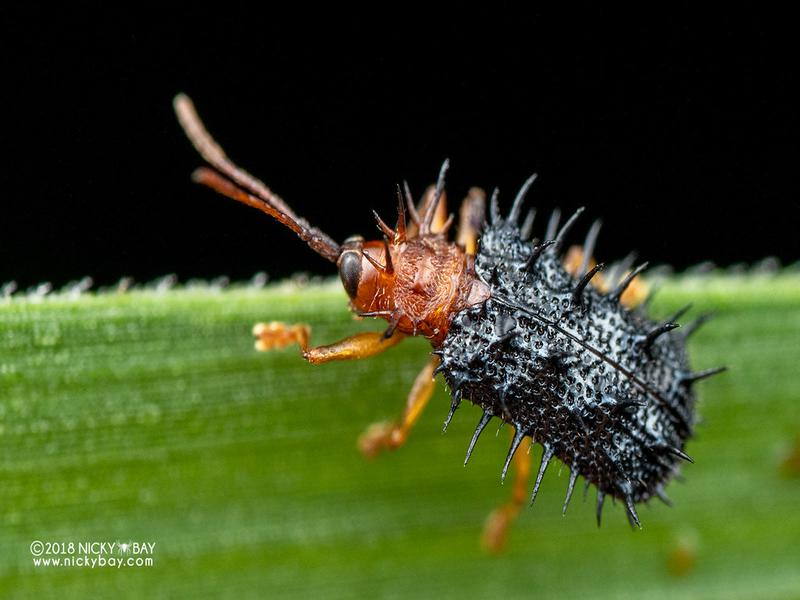Spiny_beetle: (234, 147, 741, 521)
